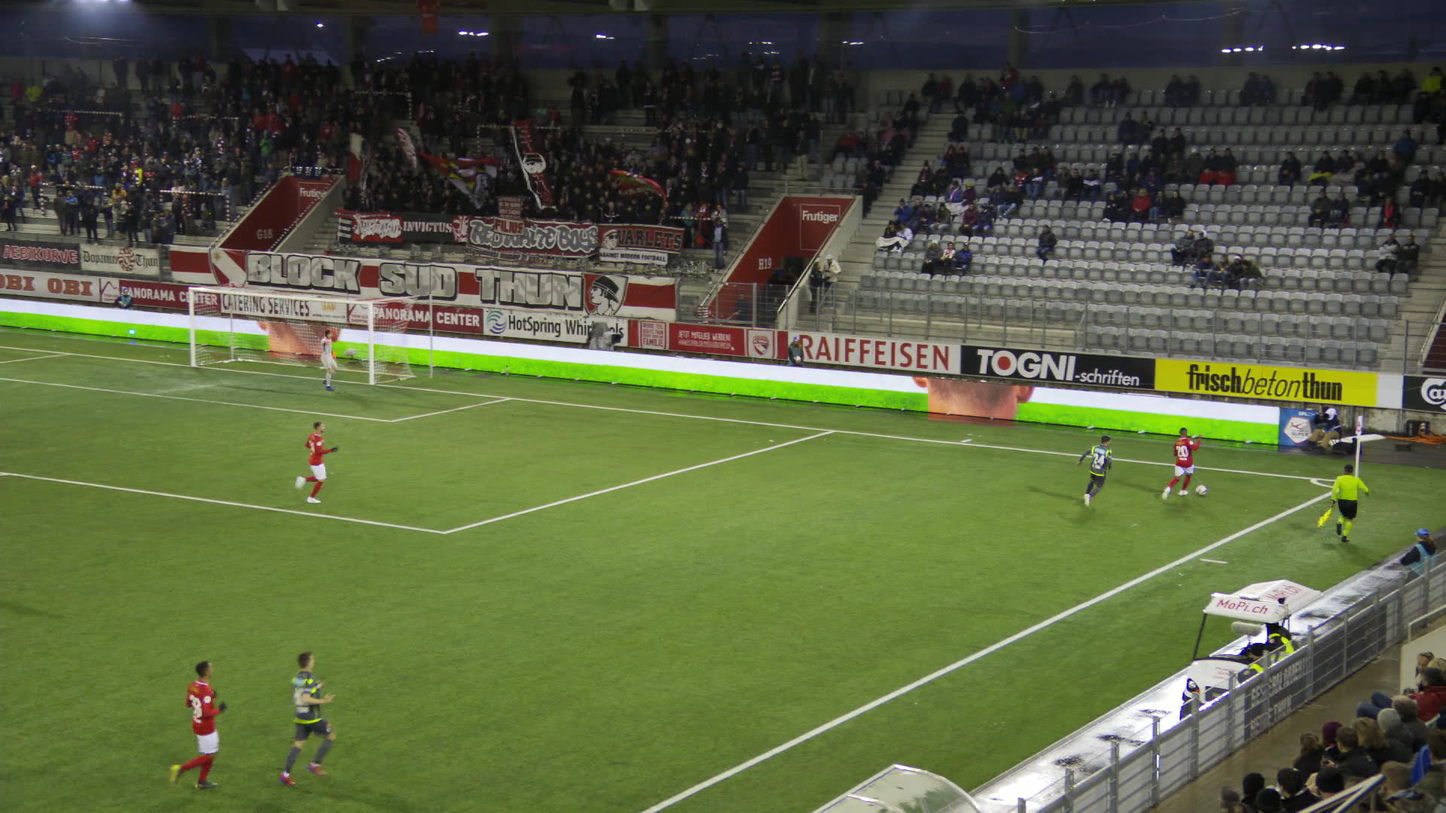ball: (1194, 484, 1207, 497)
player: (276, 648, 337, 788), (166, 659, 227, 791), (289, 419, 336, 504), (1161, 426, 1202, 501), (1075, 434, 1114, 507), (319, 329, 339, 391)
referee: (1315, 464, 1371, 543)
